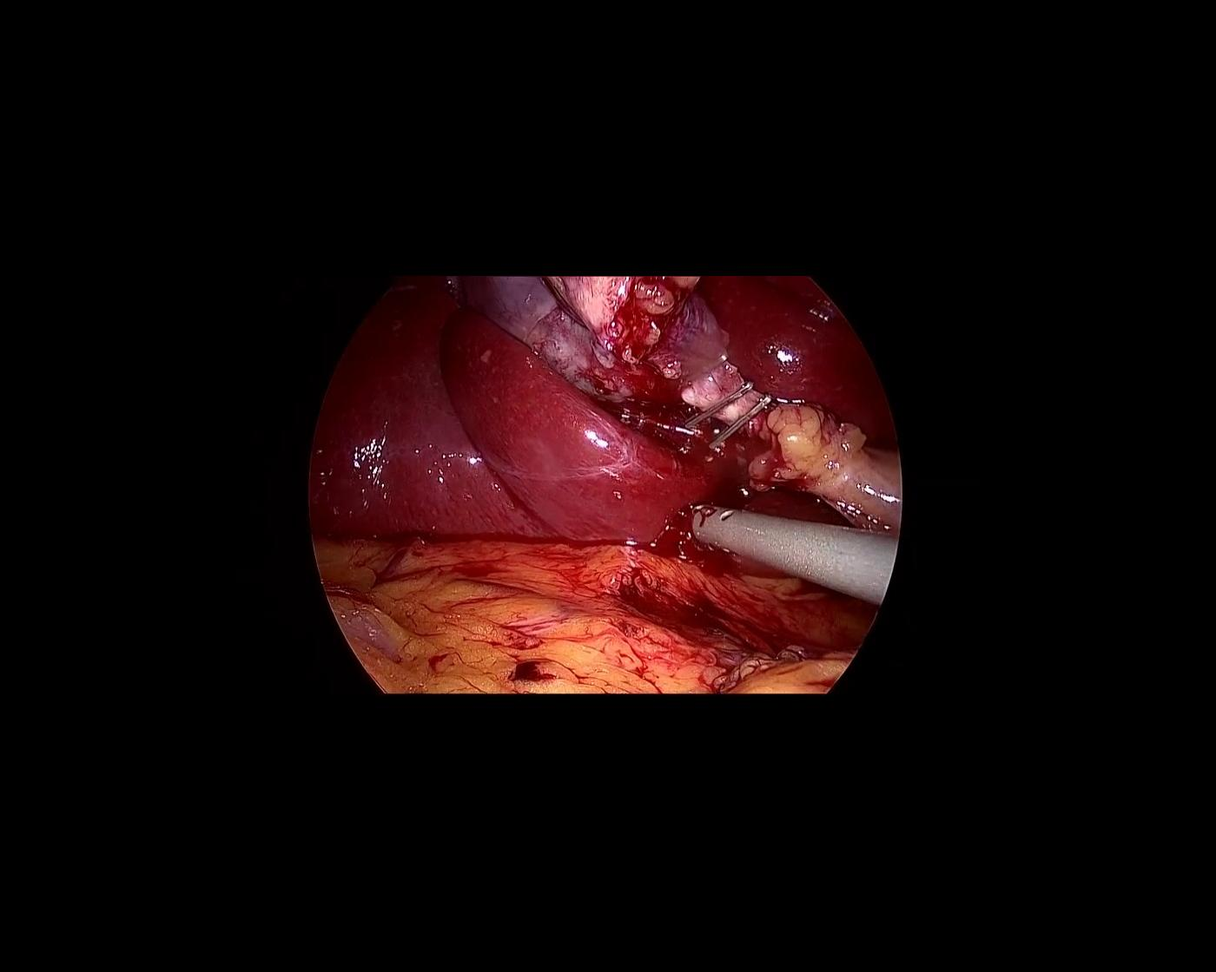Gallbladder: (465, 278, 708, 399)
Liver: (308, 281, 721, 549), (680, 227, 923, 497)
Suction: (683, 502, 899, 607)
